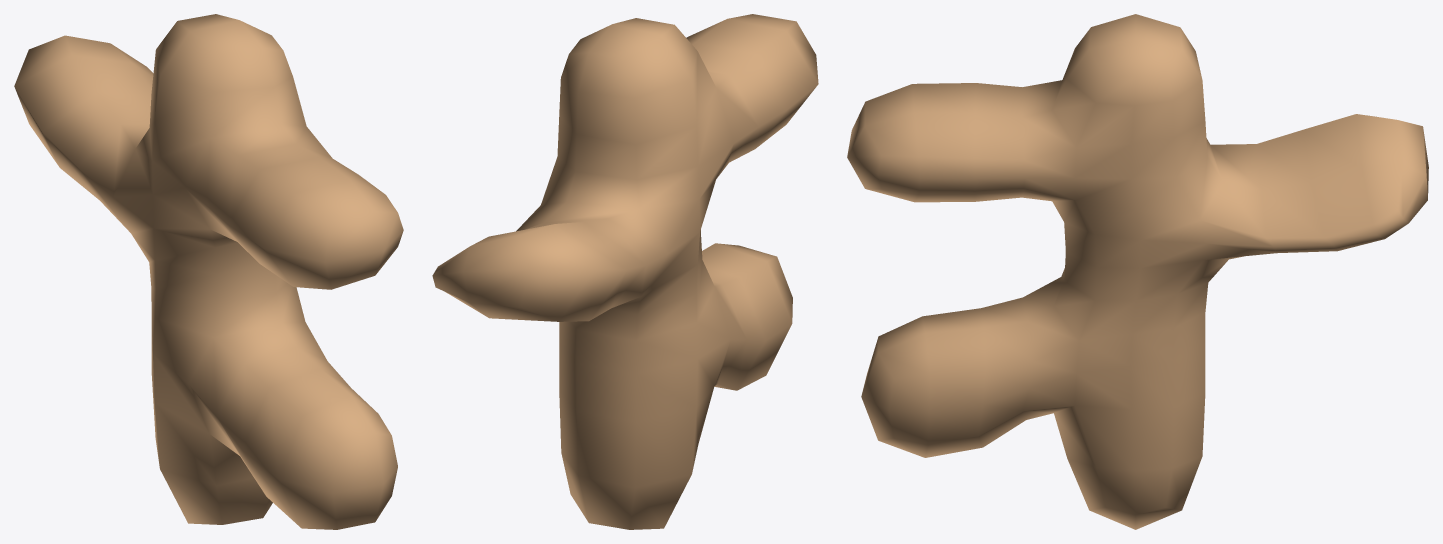
File: GingerRoot(Probably).fbx
3 renders of one model, left to right at view 1: azimuth 30°, elevation 25°; view 2: azimuth 150°, elevation 25°; view 3: azimuth 270°, elevation 25°, orthographic. The views are drawn at different scales.
Visible parts, largest first — view 1: Cube; view 2: Cube; view 3: Cube.
Part boxes in pixels (x1,y1,x2,y2): Cube: (14, 14, 403, 529); Cube: (432, 14, 818, 529); Cube: (847, 14, 1428, 529).
Size of the model in its own units: 236 by 713 by 764.
